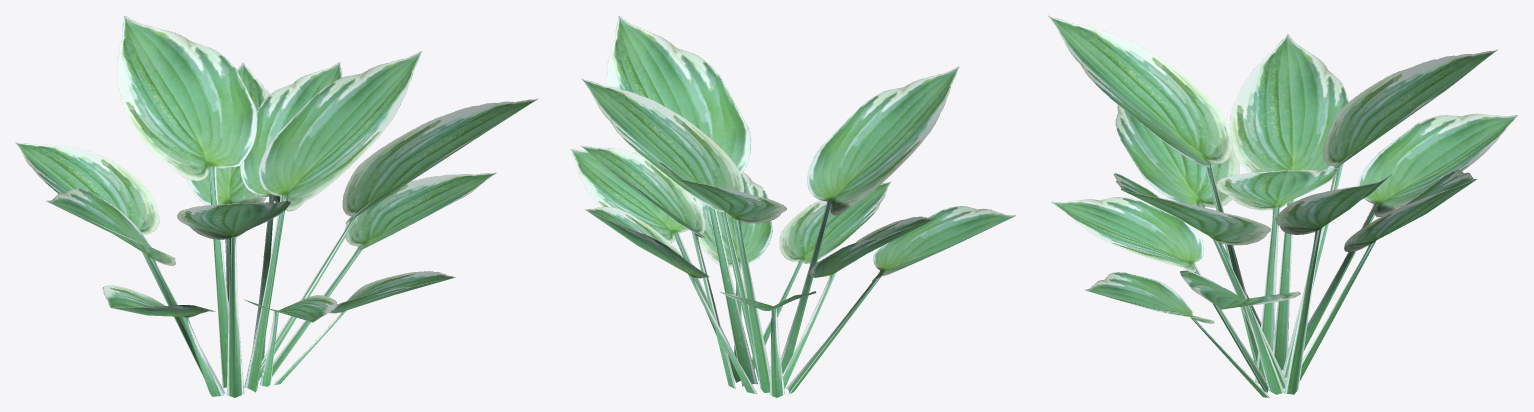
The model's file is plant_small_wg_03Q.fbx.
The picture shows the model from 3 angles, left to right: view 1: azimuth 30°, elevation 25°; view 2: azimuth 150°, elevation 25°; view 3: azimuth 270°, elevation 25°; orthographic projection. The views are drawn at different scales.
Visible parts, largest first — view 1: plant_small_wg_03Q; view 2: plant_small_wg_03Q; view 3: plant_small_wg_03Q.
Part boxes in pixels (x1,y1,x2,y2): plant_small_wg_03Q: (15,16,538,397); plant_small_wg_03Q: (570,16,1015,397); plant_small_wg_03Q: (1048,15,1517,397).
Bounding box in the file's own units: 70.73 × 46.98 × 62.18.
